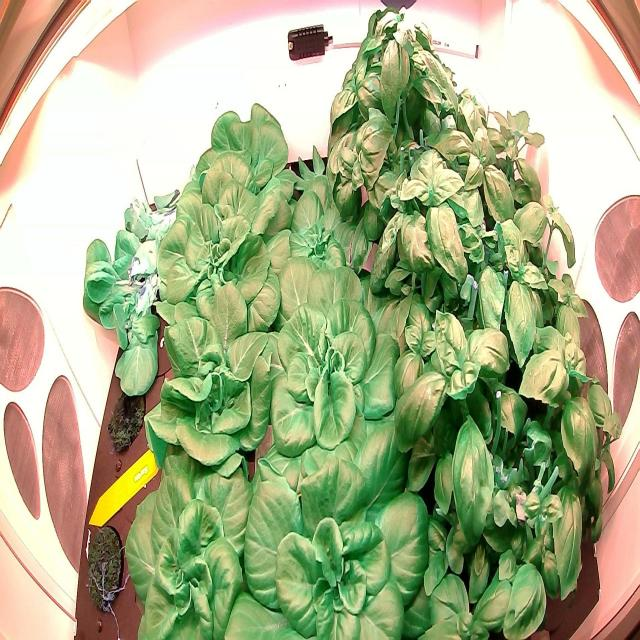pod: (105, 378, 150, 461)
young: (223, 402, 451, 639), (141, 271, 290, 486), (260, 251, 404, 467), (149, 140, 296, 350), (120, 440, 259, 639), (69, 216, 170, 402), (172, 99, 298, 243), (265, 167, 373, 301), (110, 176, 178, 244), (288, 132, 344, 205)
